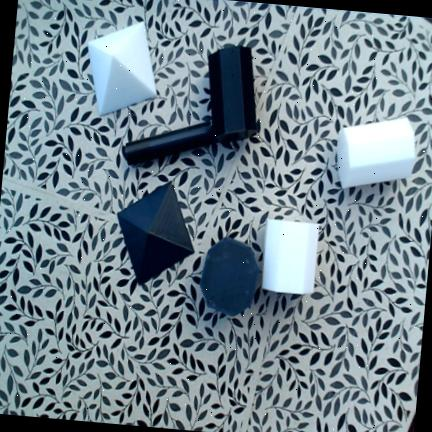Cilindro: (125, 122, 212, 166)
Piramide: (117, 181, 195, 286), (88, 21, 157, 116)
Prisma_hexagonal: (337, 118, 415, 189), (208, 46, 258, 144), (200, 238, 260, 316), (262, 219, 319, 295)
